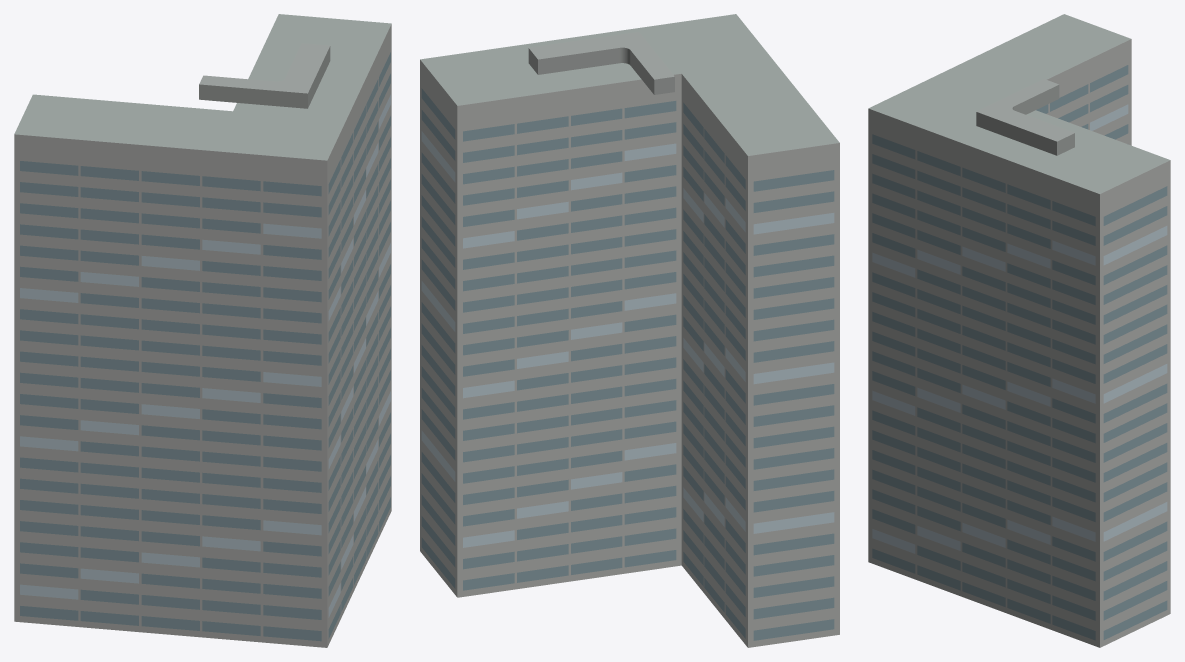
Rendered from apt-a13613012.glb.
The picture shows the model from 3 angles, left to right: view 1: azimuth 30°, elevation 25°; view 2: azimuth 150°, elevation 25°; view 3: azimuth 270°, elevation 25°; orthographic projection. The views are drawn at different scales.
Parts seen in each view (by area): view 1: apt-a13613012; view 2: apt-a13613012; view 3: apt-a13613012.
Part boxes in pixels (bbox=[...]): apt-a13613012: bbox=[14, 14, 391, 647]; apt-a13613012: bbox=[420, 14, 839, 647]; apt-a13613012: bbox=[868, 14, 1170, 647].
Bounding box in the file's own units: 65.27 × 79 × 46.28.
